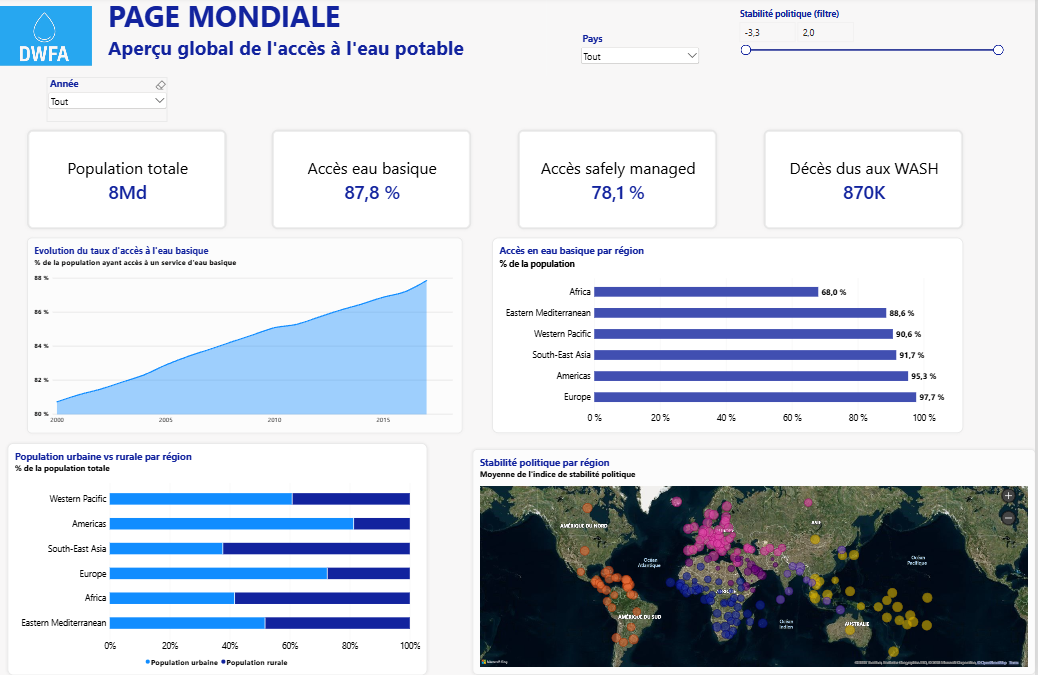

Layout of this report page (visuals, bound fields, positions):
{"tool":"powerbi","page":{"name":"PAGE mondiale","canvas":[2600,1700],"ordinal":0},"visuals":[{"type":"cardVisual","fields":{"Data":["_Mesure.Population totale"]},"box":[74.1,333.3,500,250],"z":0},{"type":"cardVisual","fields":{"Data":["_Mesure.Accès eau basique"]},"box":[688.9,333.3,500,250],"z":1000},{"type":"cardVisual","fields":{"Data":["_Mesure.Accès eau safely managed"]},"box":[1303.7,333.3,500,250],"z":2000},{"type":"cardVisual","fields":{"Data":["_Mesure.Décès WASH"]},"box":[1918.5,333.3,500,250],"z":3000},{"type":"lineChart","title":"Evolution du taux d''accès à l''eau basique","fields":{"Category":["DimYear.Year"],"Y":["_Mesure.Accès eau basique"]},"box":[75,605,1090.9,490.9],"z":4000},{"type":"clusteredBarChart","title":"Accès en eau basique par région","fields":{"Category":["RegionCountry.Region"],"Y":["_Mesure.Accès eau basique"]},"box":[1240,605,1180,490],"z":5000},{"type":"hundredPercentStackedBarChart","title":"Population urbaine vs rurale par région","fields":{"Category":["RegionCountry.Region"],"Y":["_Mesure.Population urbaine","_Mesure.Population rurale"]},"box":[25,1120,1051.3,582.1],"z":6000},{"type":"map","title":"Stabilité politique par région","fields":{"Category":["RegionCountry.Country"],"Series":["RegionCountry.Region"],"Size":["_Mesure.Stabilité politique"]},"box":[1190,1135,1410,565],"z":7000},{"type":"slicer","fields":{"Values":["DimYear.Year"]},"box":[123.9,202.8,305.7,111.3],"z":8000},{"type":"slicer","fields":{"Values":["PoliticalStability.Political_Stability"]},"box":[1852.8,28.3,671.7,147.2],"z":9000},{"type":"shape","box":[0,0,1376.3,200],"z":10000},{"type":"textbox","box":[276.3,0,1005.3,200],"z":11000},{"type":"image","box":[0,3.8,246.2,196.2],"z":12000},{"type":"slicer","fields":{"Values":["RegionCountry.Country"]},"box":[1457.9,89.5,305.7,111.3],"z":13000}]}

Visuals, with their boxes in screenshot pixels (x1, y1, x2, y2), scaled from the page's 2600x1700 canvas onto the 1038x675 screenshot:
cardVisual - _Mesure.Population totale: rect(30, 132, 229, 232)
cardVisual - _Mesure.Accès eau basique: rect(275, 132, 475, 232)
cardVisual - _Mesure.Accès eau safely managed: rect(520, 132, 720, 232)
cardVisual - _Mesure.Décès WASH: rect(766, 132, 966, 232)
"Evolution du taux d''accès à l''eau basique" lineChart: rect(30, 240, 465, 435)
"Accès en eau basique par région" clusteredBarChart: rect(495, 240, 966, 435)
"Population urbaine vs rurale par région" hundredPercentStackedBarChart: rect(10, 445, 430, 674)
"Stabilité politique par région" map: rect(475, 451, 1037, 674)
slicer - DimYear.Year: rect(49, 81, 172, 125)
slicer - PoliticalStability.Political_Stability: rect(740, 11, 1008, 70)
shape: rect(0, 0, 549, 79)
textbox: rect(110, 0, 512, 79)
image: rect(0, 2, 98, 79)
slicer - RegionCountry.Country: rect(582, 36, 704, 80)
